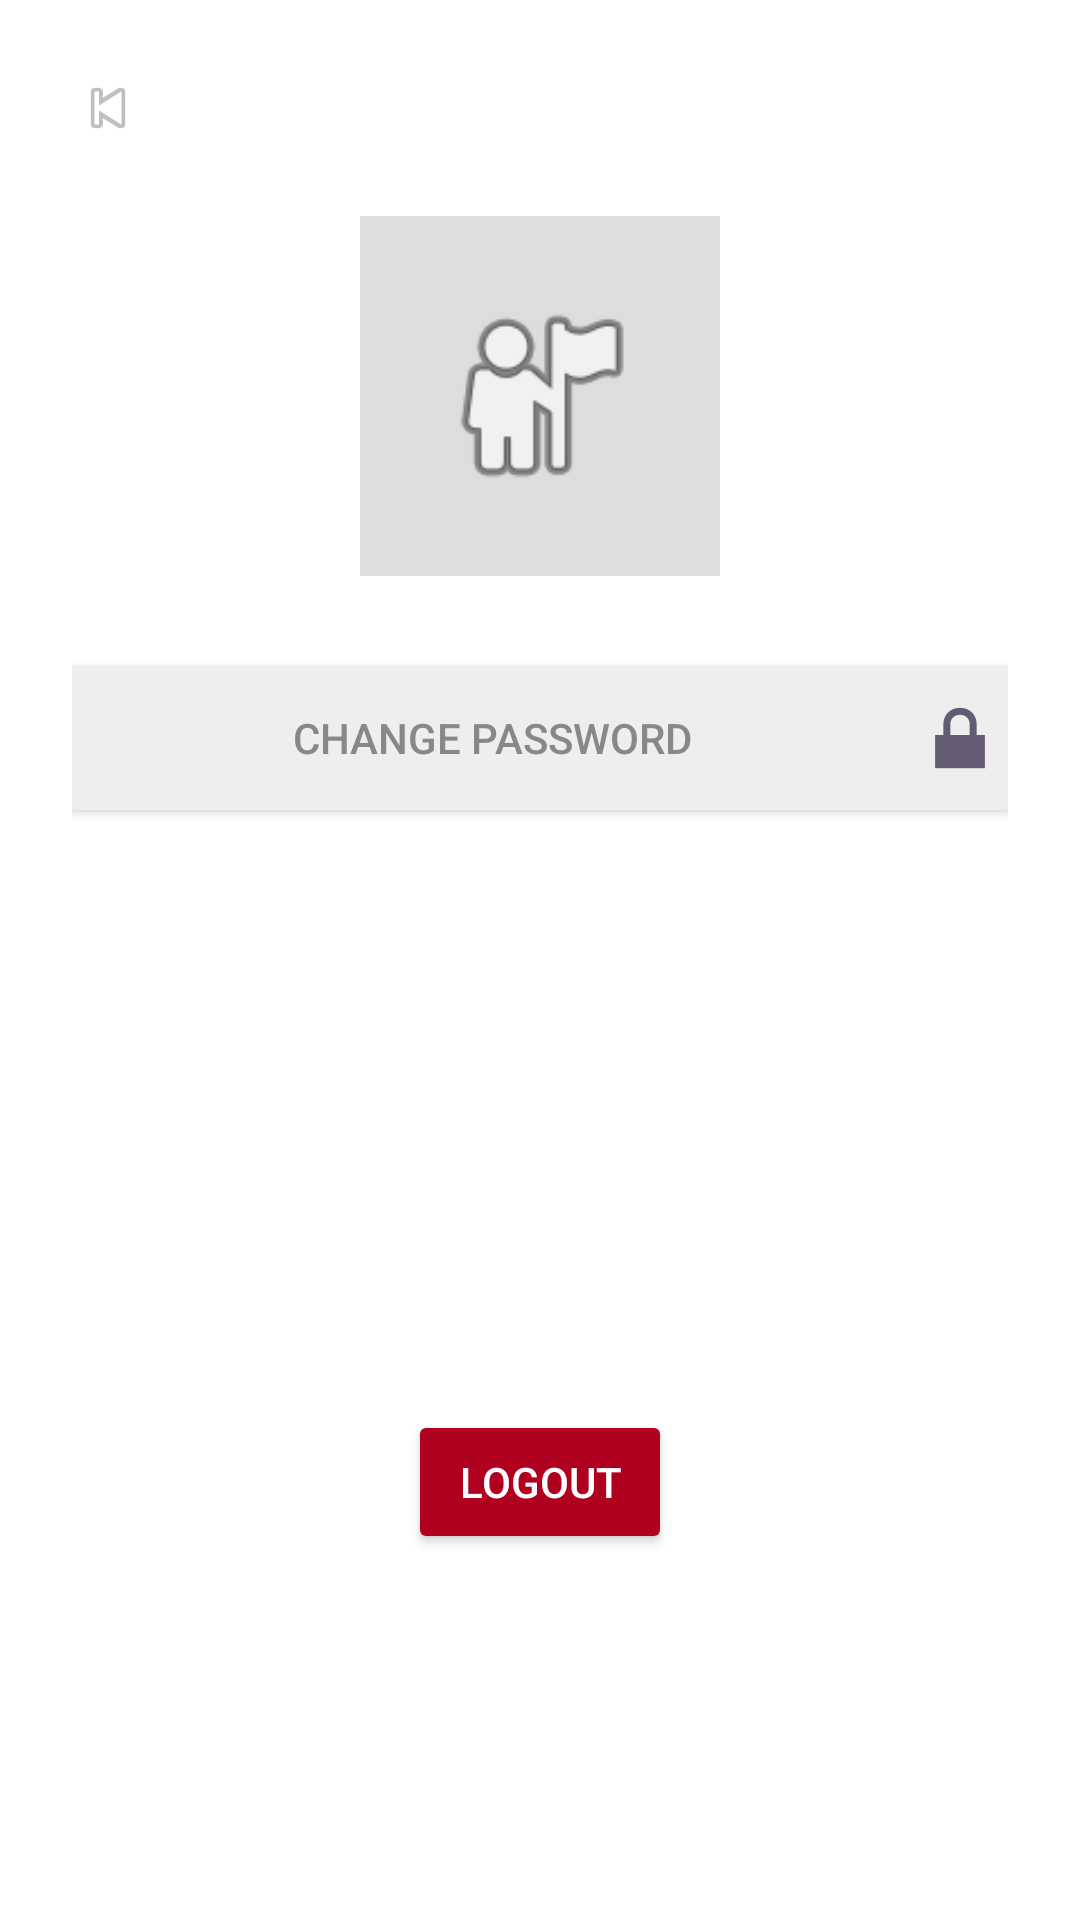

Icon click points for this 1080×1920 phone screenshot, format (x=x, y=y):
Back: (x=108, y=108)
